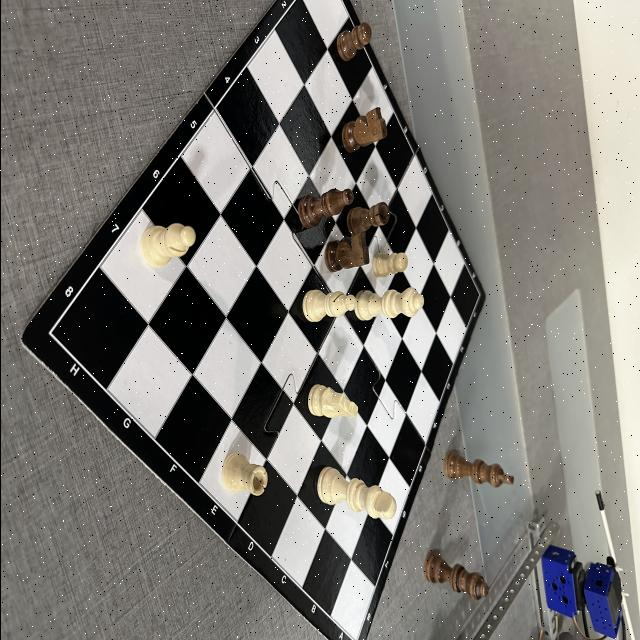Black-Bishop: (297, 188, 353, 230)
Black-King: (442, 450, 514, 488)
Black-Knight: (341, 107, 386, 153), (324, 230, 368, 274)
Black-Pawn: (335, 22, 371, 62)
Black-Queen: (422, 550, 488, 602)
Black-Rook: (345, 202, 389, 236)
White-Bishop: (139, 223, 195, 268), (301, 289, 355, 323)
White-King: (316, 466, 396, 520)
White-Knight: (307, 384, 357, 418)
White-Pawn: (372, 252, 408, 278)
White-Queen: (353, 286, 423, 322)
White-Rook: (221, 452, 267, 496)
